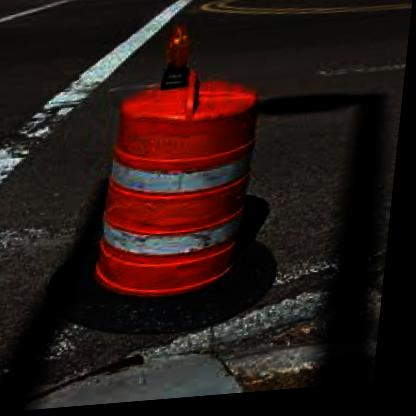obstacle: (85, 84, 266, 316)
